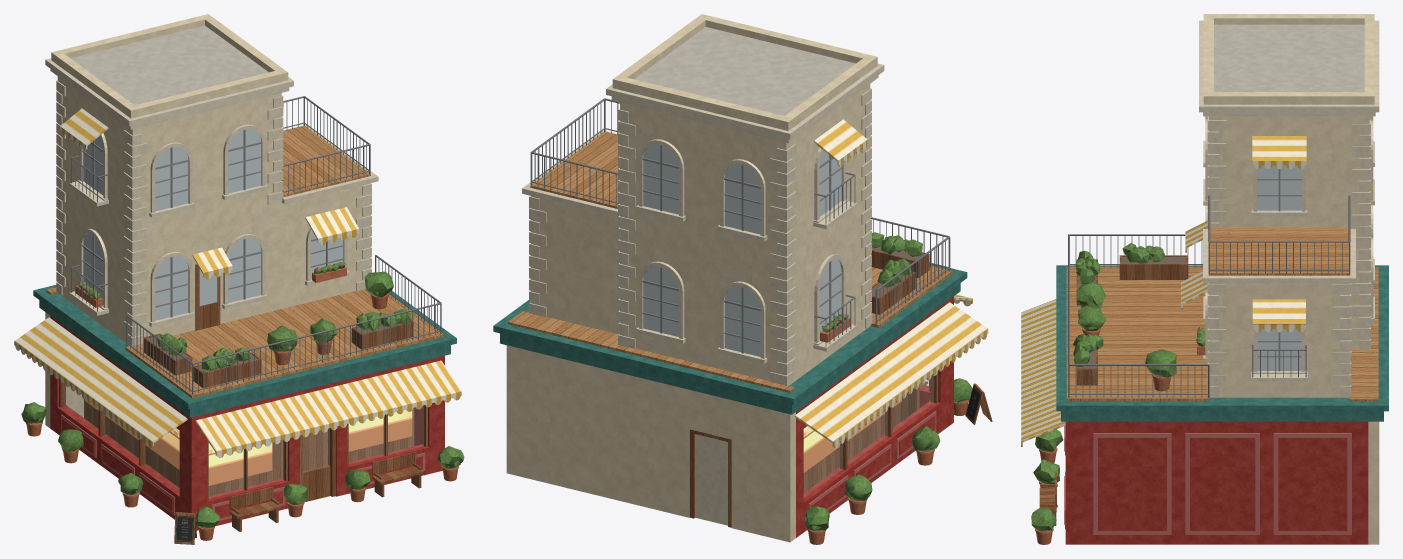
File: cafe_vintage.glb
The picture shows the model from 3 angles, left to right: view 1: azimuth 30°, elevation 25°; view 2: azimuth 150°, elevation 25°; view 3: azimuth 270°, elevation 25°; orthographic projection. The views are drawn at different scales.
Visible parts, largest first — view 1: Tower_Stucco_Stucco_Butter_Cream, Awning_Roof_Fabric_Awning_Yellow, GF_Red_Wall_Storefront_Vintage_Red, Terrace_Deck_Wood_Terrace_Deck, Cafe_Glass_Glass_Storefront_Clear, Arch_Glass_Glass_Upper_Tinted, Quoin_Stone_Stone_Quoin_Trim, Tower_Roof_Roof_Membrane, Rail_Iron_Metal_Wrought_Iron, Foliage_3D_Foliage_Lush, Tower_Parapet_Stucco_Butter_Cream, Arch_Trim_Stone_Quoin_Trim (+25 smaller); view 2: GF_Rear_Stucco_Stucco_Butter_Cream, Tower_Stucco_Stucco_Butter_Cream, Quoin_Stone_Stone_Quoin_Trim, Tower_Roof_Roof_Membrane, Arch_Glass_Glass_Upper_Tinted, Awning_Roof_Fabric_Awning_Yellow, Wing_Stucco_Stucco_Butter_Cream, Tower_Parapet_Stucco_Butter_Cream, Teal_Cornice_Trim_Vintage_Teal, Arch_Trim_Stone_Quoin_Trim, Rail_Iron_Metal_Wrought_Iron, GF_Red_Wall_Storefront_Vintage_Red (+20 smaller); view 3: GF_Red_Trim_Storefront_Vintage_Red, Terrace_Deck_Wood_Terrace_Deck, GF_Red_Wall_Storefront_Vintage_Red, Tower_Stucco_Stucco_Butter_Cream, Tower_Roof_Roof_Membrane, Wing_Stucco_Stucco_Butter_Cream, Quoin_Stone_Stone_Quoin_Trim, Awning_Roof_Fabric_Awning_Yellow, Teal_Cornice_Trim_Vintage_Teal, Wing_Deck_Wood_Terrace_Deck, Tower_Parapet_Stucco_Butter_Cream, Foliage_3D_Foliage_Lush (+15 smaller).
Boxes of the visible parts, x1,y1,x2,y2 form: Tower_Stucco_Stucco_Butter_Cream: [57, 76, 281, 342]; Awning_Roof_Fabric_Awning_Yellow: [15, 108, 461, 452]; GF_Red_Wall_Storefront_Vintage_Red: [50, 316, 444, 530]; Terrace_Deck_Wood_Terrace_Deck: [46, 287, 443, 398]; Cafe_Glass_Glass_Storefront_Clear: [63, 382, 423, 497]; Arch_Glass_Glass_Upper_Tinted: [83, 129, 343, 320]; Quoin_Stone_Stone_Quoin_Trim: [56, 80, 371, 345]; Tower_Roof_Roof_Membrane: [71, 25, 268, 104]; Rail_Iron_Metal_Wrought_Iron: [71, 96, 441, 394]; Foliage_3D_Foliage_Lush: [21, 262, 464, 527]; Tower_Parapet_Stucco_Butter_Cream: [51, 14, 288, 118]; Arch_Trim_Stone_Quoin_Trim: [77, 124, 349, 326]; GF_Rear_Stucco_Stucco_Butter_Cream: [506, 345, 795, 542]; Tower_Stucco_Stucco_Butter_Cream: [620, 84, 870, 385]; Quoin_Stone_Stone_Quoin_Trim: [529, 88, 871, 385]; Tower_Roof_Roof_Membrane: [634, 27, 855, 115]; Arch_Glass_Glass_Upper_Tinted: [643, 144, 841, 356]; Awning_Roof_Fabric_Awning_Yellow: [794, 119, 987, 442]; Wing_Stucco_Stucco_Butter_Cream: [531, 196, 619, 334]; Tower_Parapet_Stucco_Butter_Cream: [612, 14, 877, 130]; Teal_Cornice_Trim_Vintage_Teal: [493, 264, 967, 404]; Arch_Trim_Stone_Quoin_Trim: [636, 139, 848, 363]; Rail_Iron_Metal_Wrought_Iron: [530, 98, 950, 346]; GF_Red_Wall_Storefront_Vintage_Red: [796, 296, 953, 537]; GF_Red_Trim_Storefront_Vintage_Red: [1064, 426, 1347, 530]; Terrace_Deck_Wood_Terrace_Deck: [1066, 266, 1378, 401]; GF_Red_Wall_Storefront_Vintage_Red: [1065, 421, 1368, 544]; Tower_Stucco_Stucco_Butter_Cream: [1209, 116, 1369, 348]; Tower_Roof_Roof_Membrane: [1214, 24, 1364, 91]; Wing_Stucco_Stucco_Butter_Cream: [1209, 283, 1349, 397]; Quoin_Stone_Stone_Quoin_Trim: [1207, 116, 1370, 396]; Awning_Roof_Fabric_Awning_Yellow: [1021, 136, 1306, 442]; Teal_Cornice_Trim_Vintage_Teal: [1056, 265, 1388, 411]; Wing_Deck_Wood_Terrace_Deck: [1208, 227, 1350, 275]; Tower_Parapet_Stucco_Butter_Cream: [1203, 14, 1374, 104]; Foliage_3D_Foliage_Lush: [1031, 243, 1205, 531].
Size of the model in its own units: 9.55 by 11.26 by 9.38.
19 materials, 13 textured.
